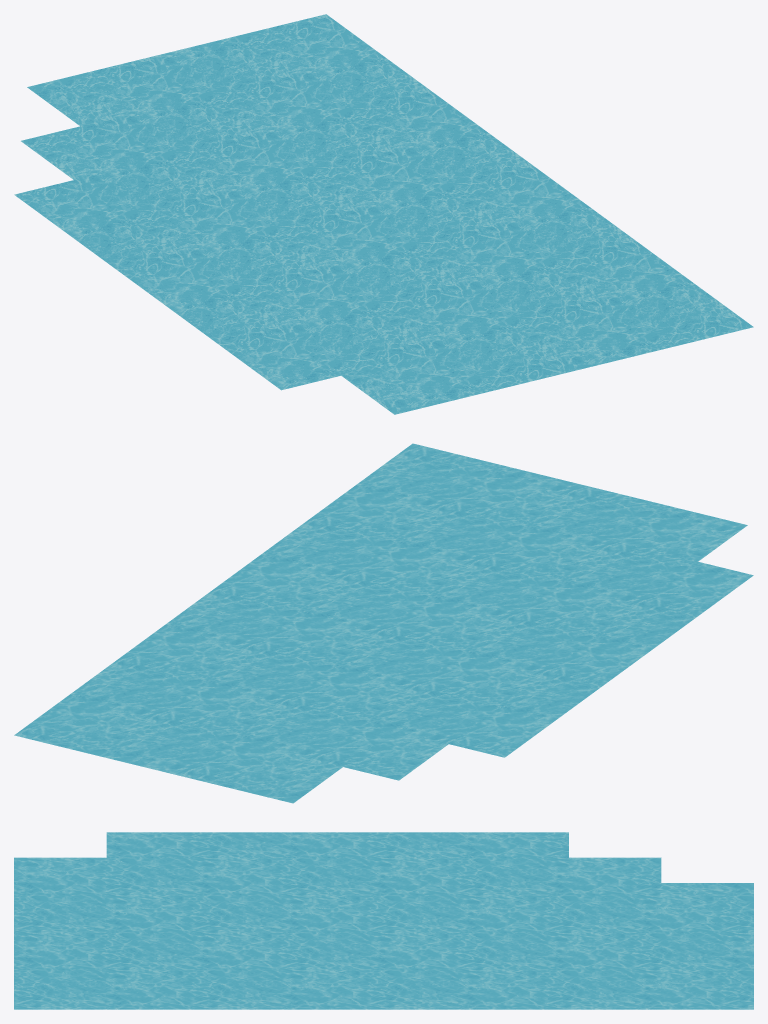
Rendered from aplha_sea.glb.
3 views of the same model, one above another, from view 1: azimuth 30°, elevation 25°; view 2: azimuth 150°, elevation 25°; view 3: azimuth 270°, elevation 25° (orthographic). The views are drawn at different scales.
Visible parts, largest first — view 1: alpha_sea.png__; view 2: alpha_sea.png__; view 3: alpha_sea.png__.
Boxes of the visible parts, <box> form: alpha_sea.png__: <box>14,14,753,414</box>; alpha_sea.png__: <box>14,443,753,803</box>; alpha_sea.png__: <box>14,832,753,1009</box>.
Bounding box in the file's own units: 101 × 0 × 178.
Materials: 1 (1 with a texture image).
